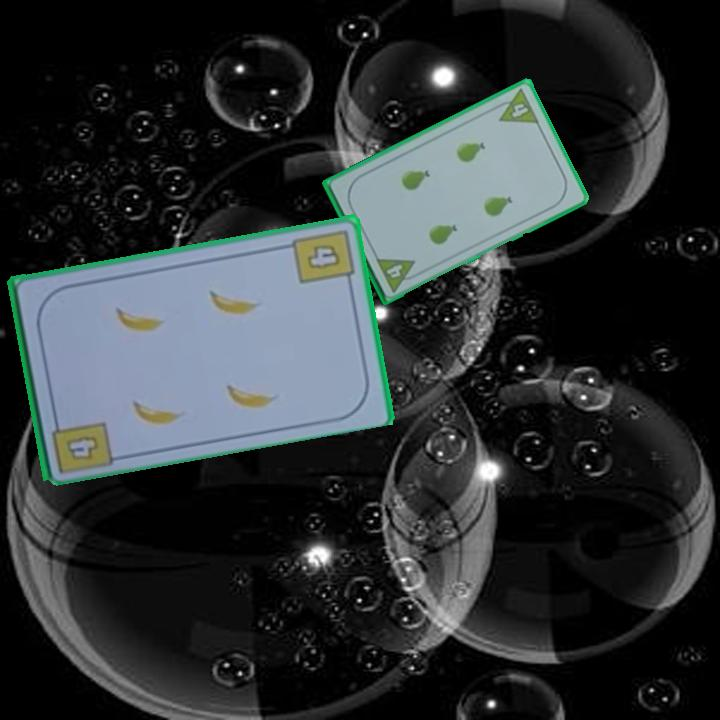4b: (289, 225, 357, 289), (62, 431, 103, 463)
4p: (490, 85, 542, 126), (373, 254, 423, 295)
